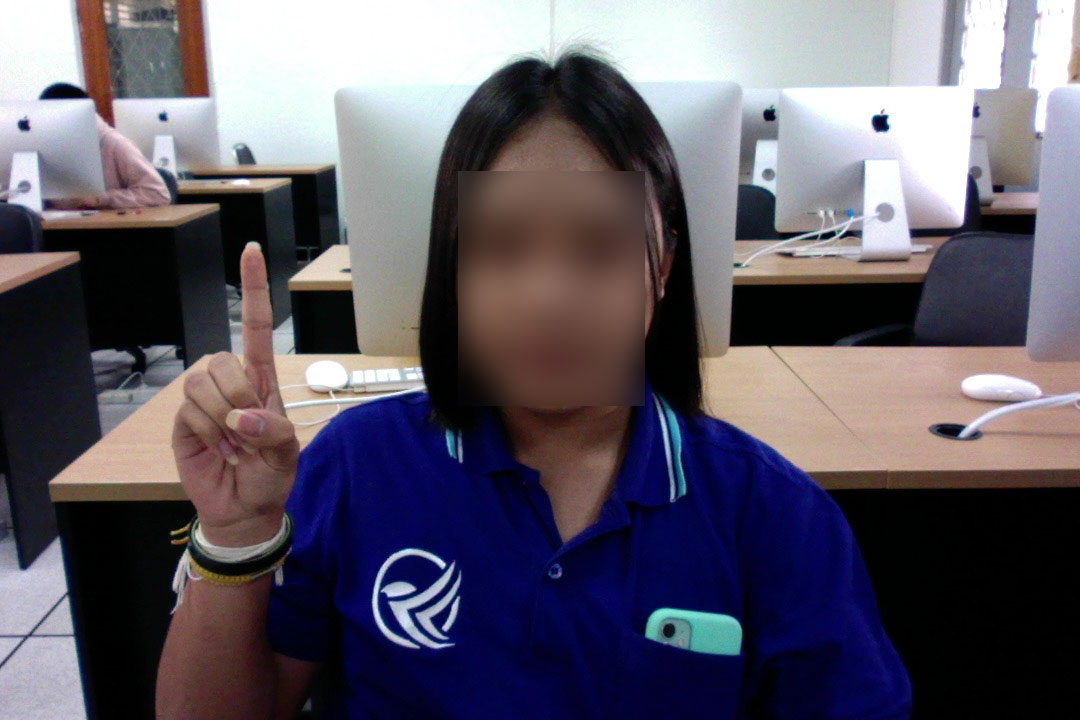dor: (171, 236, 305, 546)
